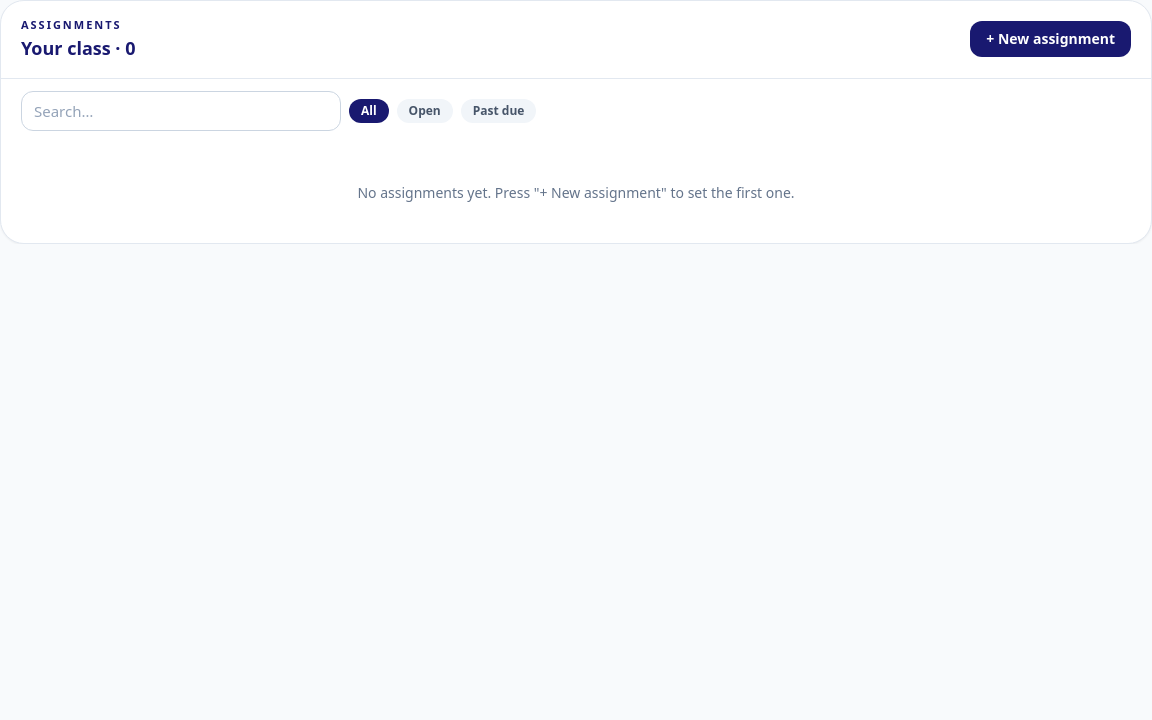
Test: a teacher with no subject in the class is told why, instead of being stuck
The image size is (1152, 720).
What coordinates should you click on to do the following:
click the button "+ New assignment"
I would click on:
 (1051, 39)
Its box is [970,21,1131,57].
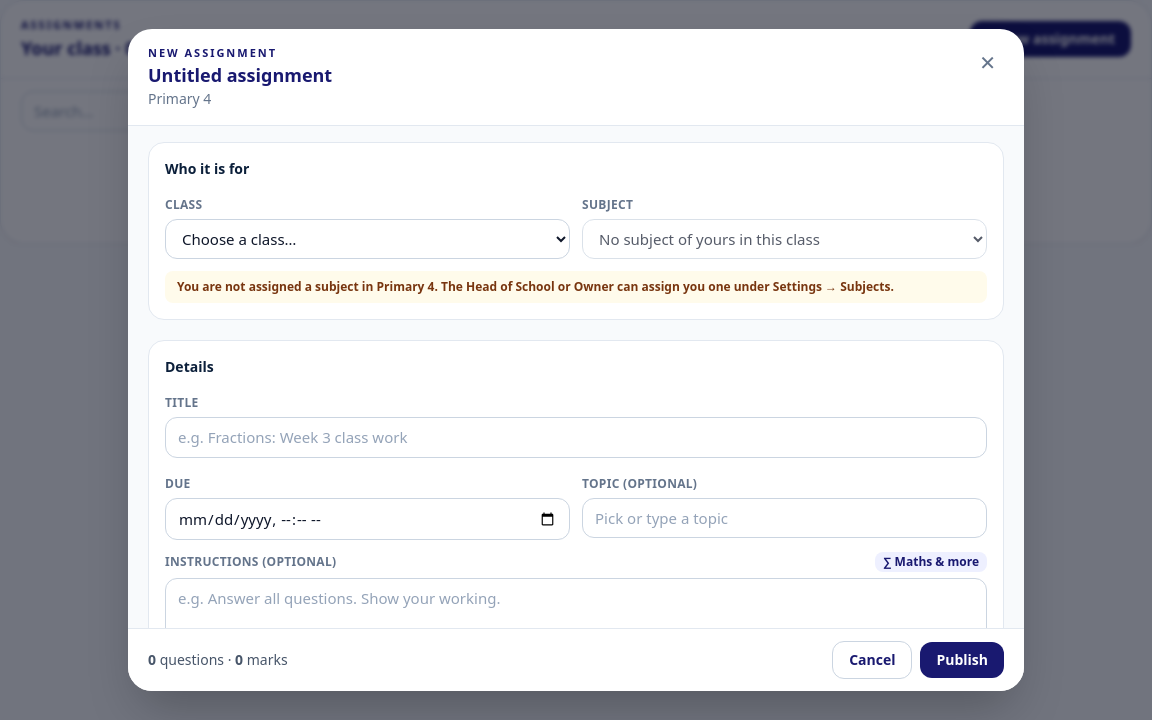
Now the text "You are not assigned a subject in Primary 4" is shown, box [165,271,987,303]
